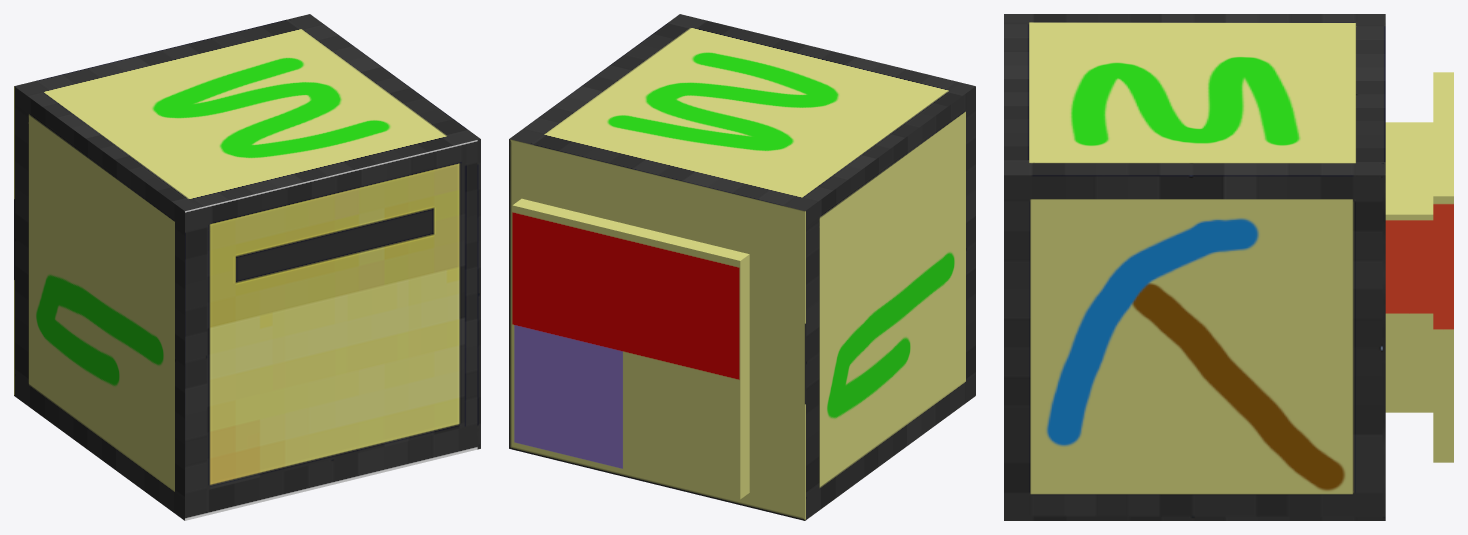
File: turtle.gltf
3 views of the same model, side by side, from view 1: azimuth 30°, elevation 25°; view 2: azimuth 150°, elevation 25°; view 3: azimuth 270°, elevation 25° (orthographic). The views are drawn at different scales.
Visible parts, largest first — view 1: Cube; view 2: Cube; view 3: Cube.
Part boxes in pixels (x1=…): Cube: x1=14, y1=14, x2=480, y2=520; Cube: x1=509, y1=14, x2=975, y2=520; Cube: x1=1004, y1=14, x2=1453, y2=520.
Bounding box in the file's own units: 2 × 2 × 2.36.
1 material, 1 textured.
